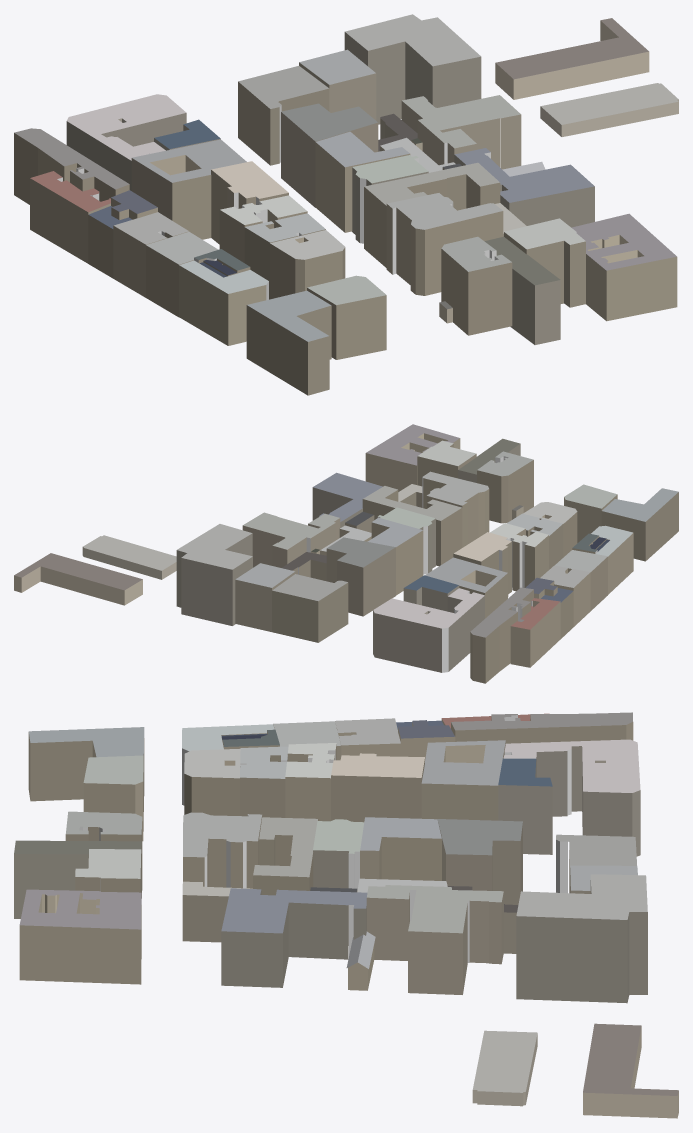
The picture shows the model from 3 angles, top to bottom: view 1: azimuth 30°, elevation 25°; view 2: azimuth 150°, elevation 25°; view 3: azimuth 270°, elevation 25°; orthographic projection. The views are drawn at different scales.
Visible parts, largest first — view 1: tuile; view 2: tuile; view 3: tuile.
Boxes of the visible parts, x1,y1,x2,y2 form: tuile: (14, 14, 678, 395); tuile: (14, 424, 678, 683); tuile: (14, 712, 678, 1118).
Bounding box in the file's own units: 230 × 29.61 × 190.
